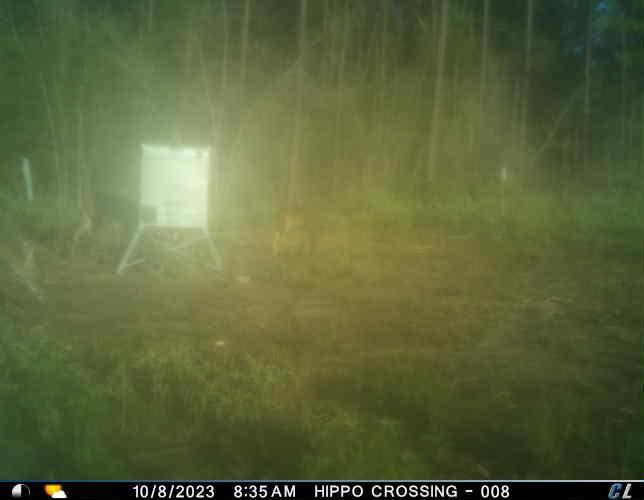Deer: (67, 192, 142, 253), (0, 218, 52, 305), (266, 202, 329, 253)
